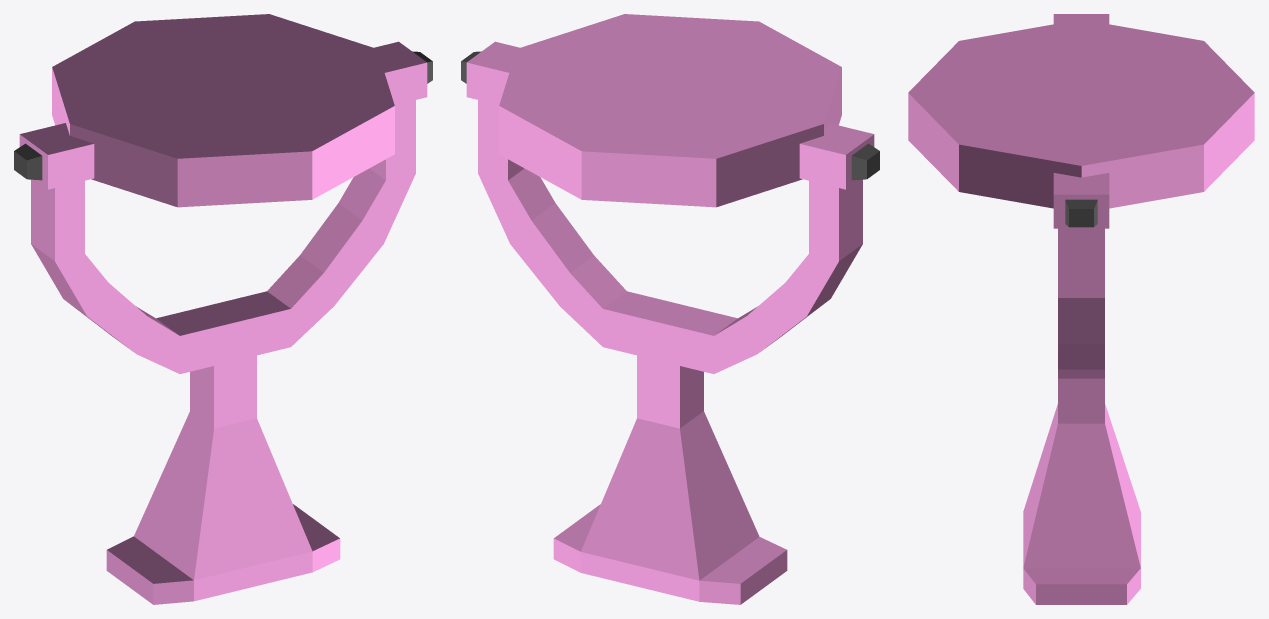
Rendered from Stand Mirror.fbx.
3 views of the same model, side by side, from view 1: azimuth 30°, elevation 25°; view 2: azimuth 150°, elevation 25°; view 3: azimuth 270°, elevation 25° (orthographic). The views are drawn at different scales.
Visible parts, largest first — view 1: Node 0, Node 1; view 2: Node 0, Node 1; view 3: Node 1, Node 0.
Part boxes in pixels (x1,y1,x2,y2): Node 0: (14,41,432,604); Node 1: (52,14,394,207); Node 0: (461,41,879,604); Node 1: (499,14,841,207); Node 1: (908,19,1254,208); Node 0: (1023,14,1140,604).
Bounding box in the file's own units: 0.1352 × 0.2014 × 0.1788.
